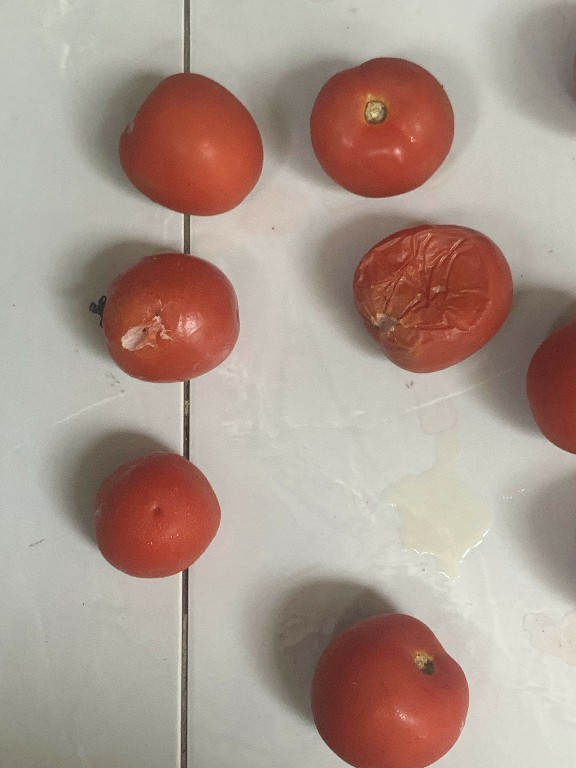NG: (344, 220, 518, 377), (92, 252, 244, 383)
OK: (308, 605, 472, 767), (116, 69, 268, 218), (305, 54, 455, 200), (86, 451, 223, 579)
